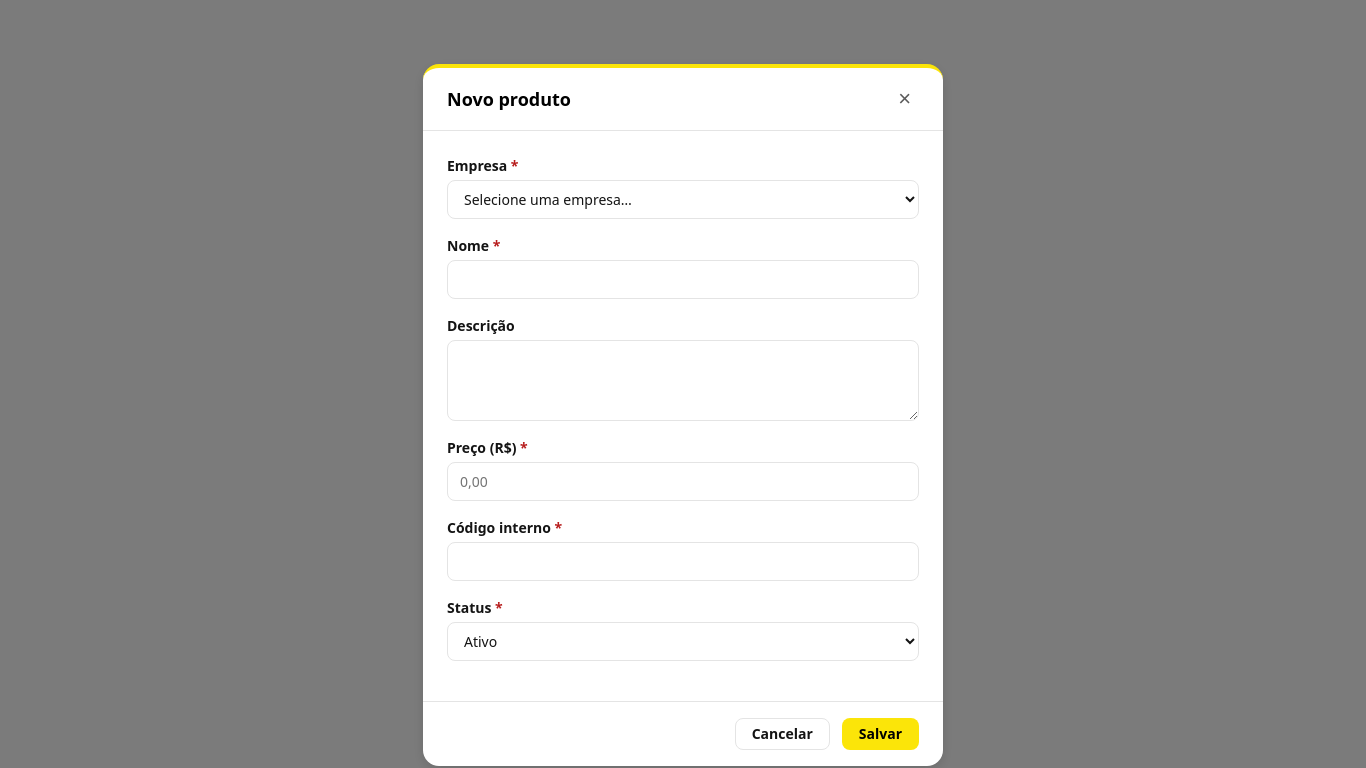
Test case: ProdutoFormModal › mapeia erros 422 do servidor para os campos (codigo_interno e preco)
The width and height of the screenshot is (1366, 768).
Step 1. Select "Empresa Um" in the dropdown labelled "Empresa" → (683, 200), box [447,180,919,219]
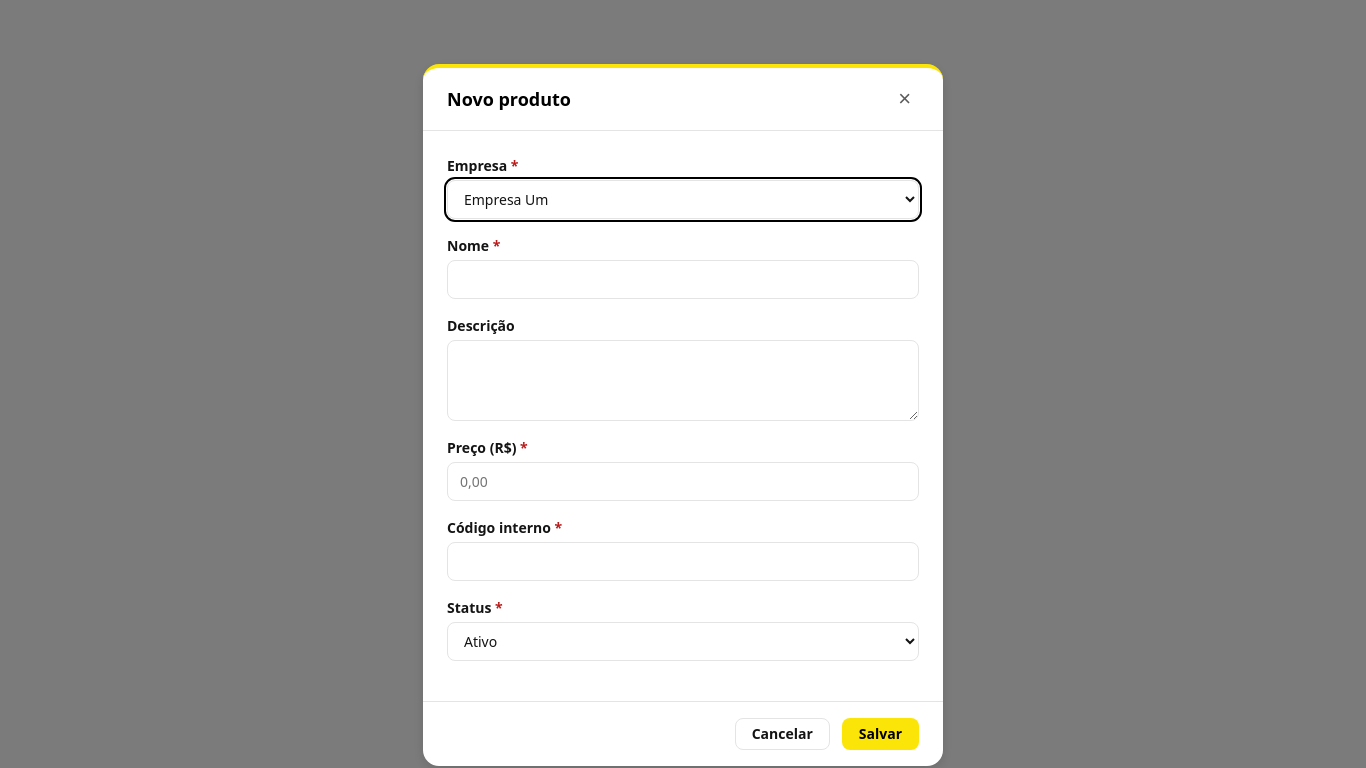
Step 2. Type "Produto Novo" into the field labelled "Nome" → (683, 280), box [447,260,919,299]
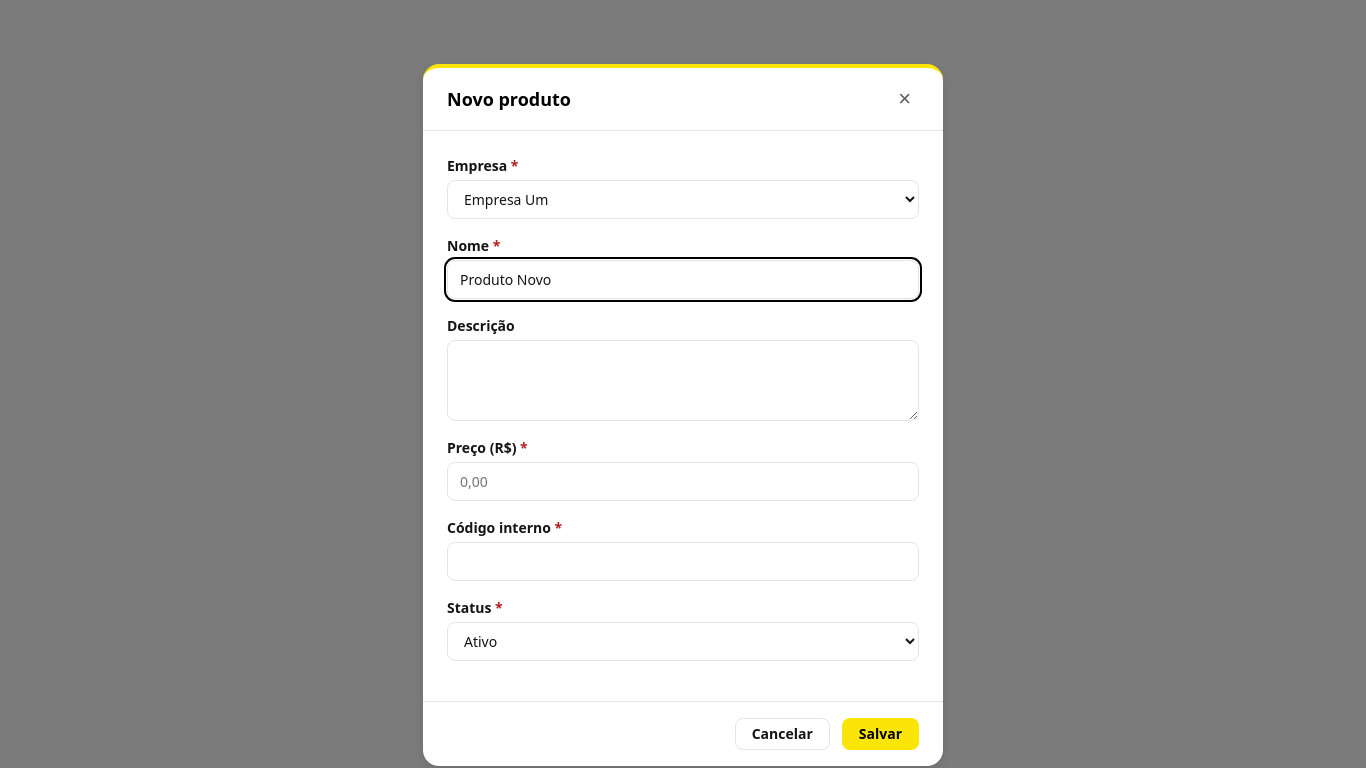
Step 3. Type "19.90" into the field labelled "Preço (R$)" → (683, 482), box [447,462,919,501]
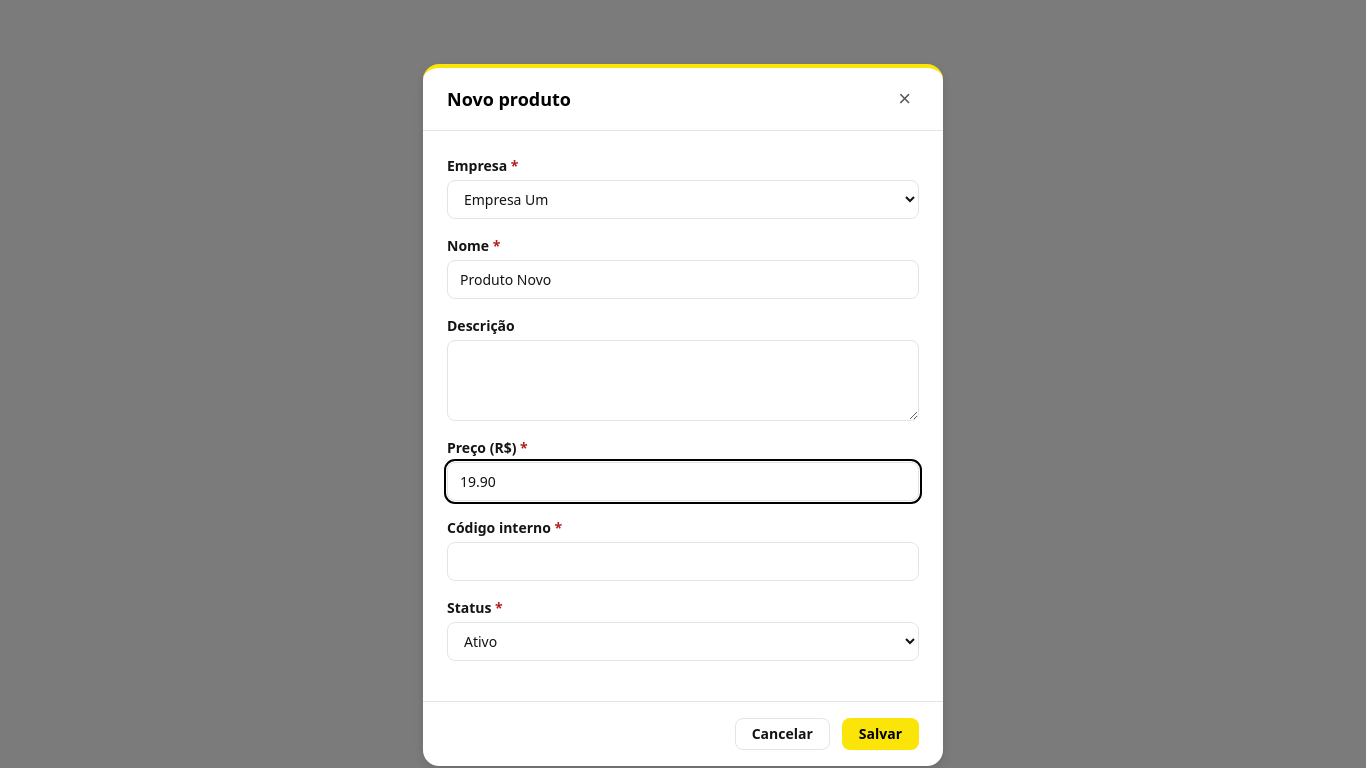
Step 4. Type "SKU-999" into the field labelled "Código interno" → (683, 562), box [447,542,919,581]
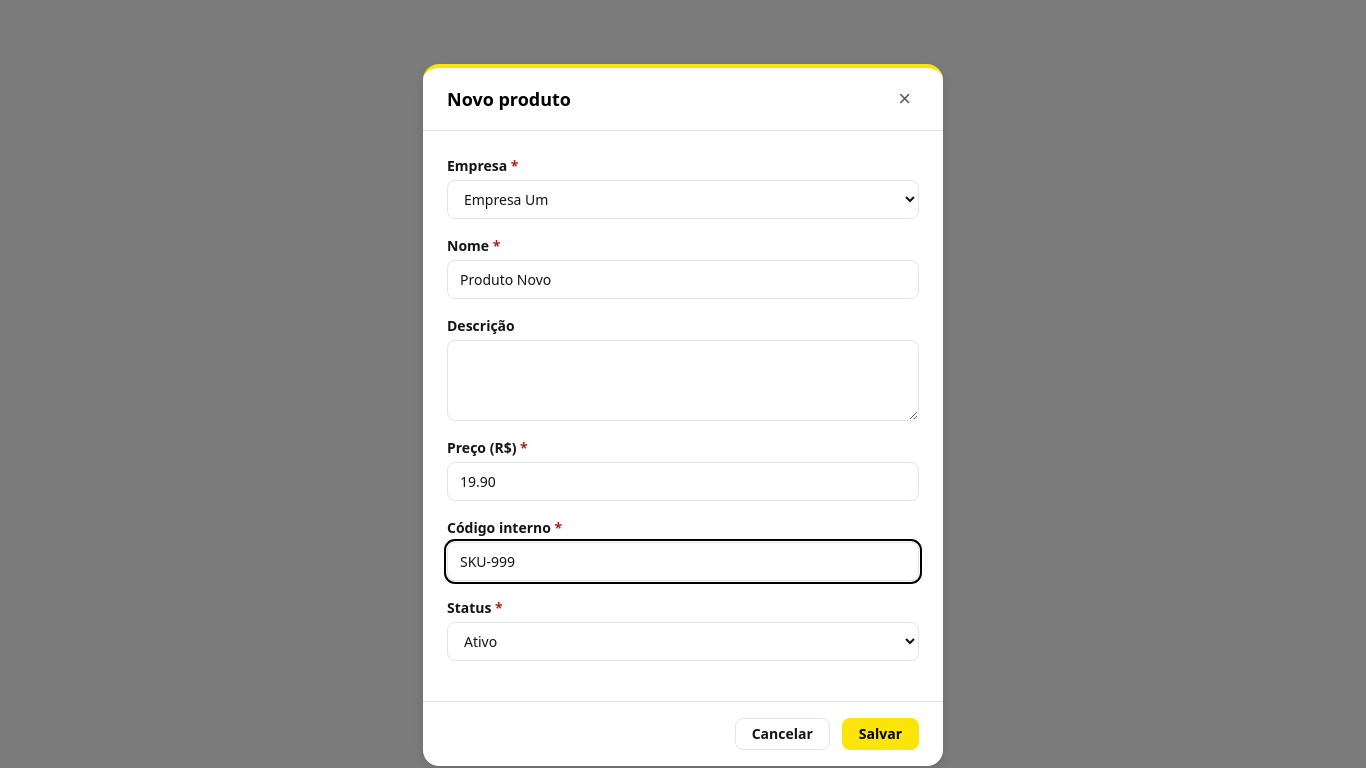
Step 5. Click the button "Salvar" → (880, 734), box [842,718,919,750]
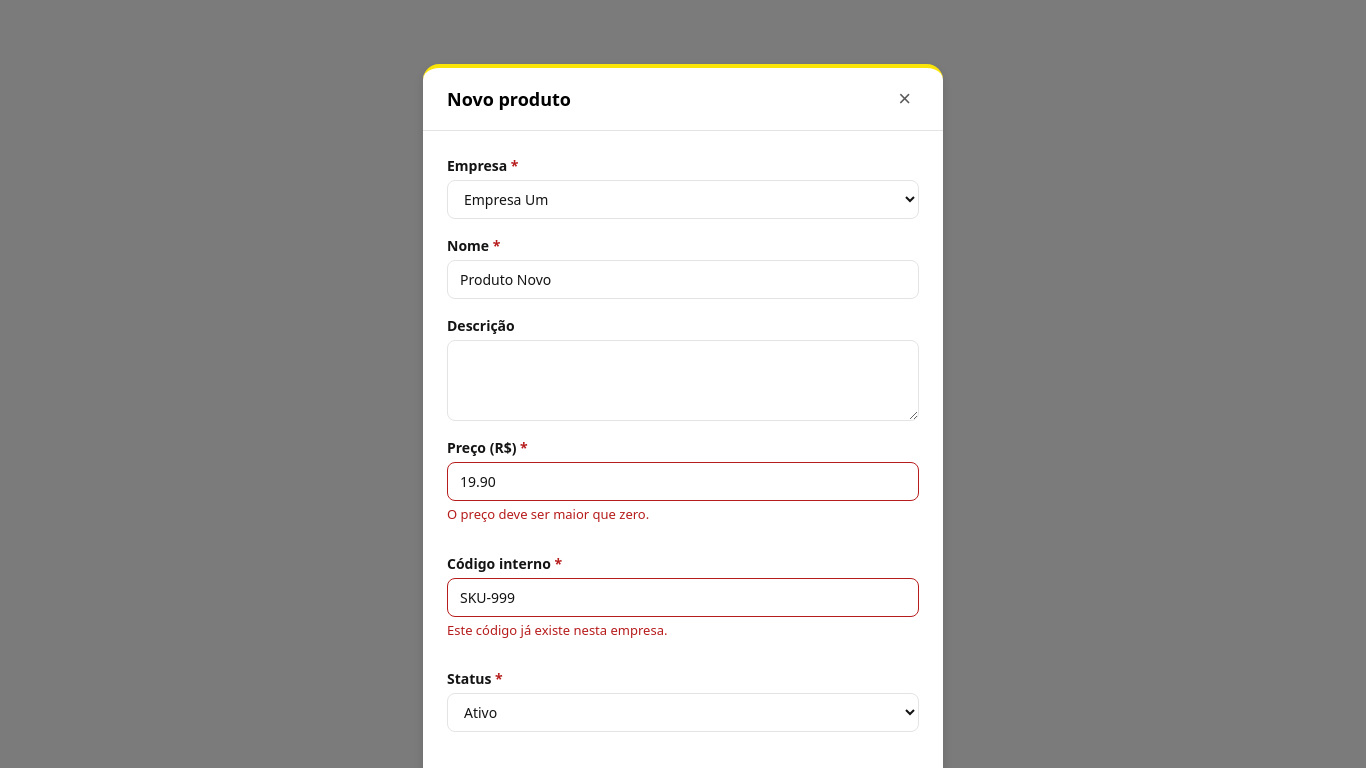
Expected: the text "Este código já existe nesta empresa." is shown, [447,620,667,638]
Expected: the text "O preço deve ser maior que zero." is shown, [447,505,649,523]
